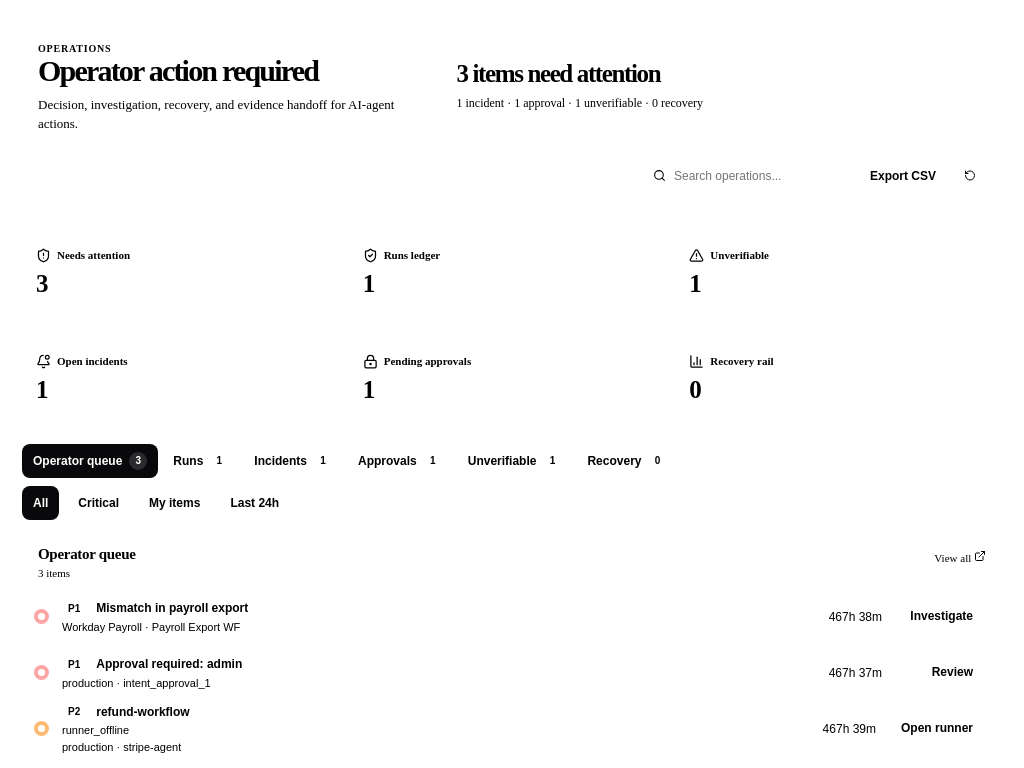
Test: OperationsPage › keeps unknown outcome proof in the unverifiable queue with its graph reason
Click the button "Unverifiable 1" at [515, 461], box [457,444,572,478]
(page scrolled)
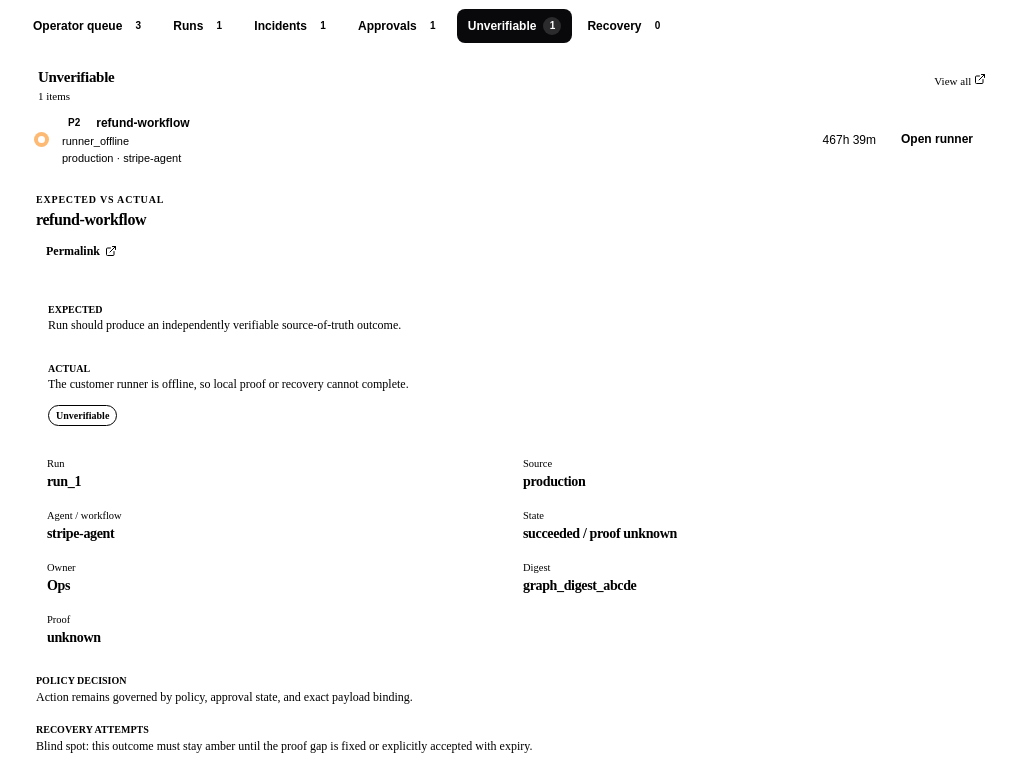
Expected: the text "runner_offline" is shown, [62,135,129,147]
Result: the text "The customer runner is offline, so local proof or recovery cannot complete." is shown at [48,377,409,391]
